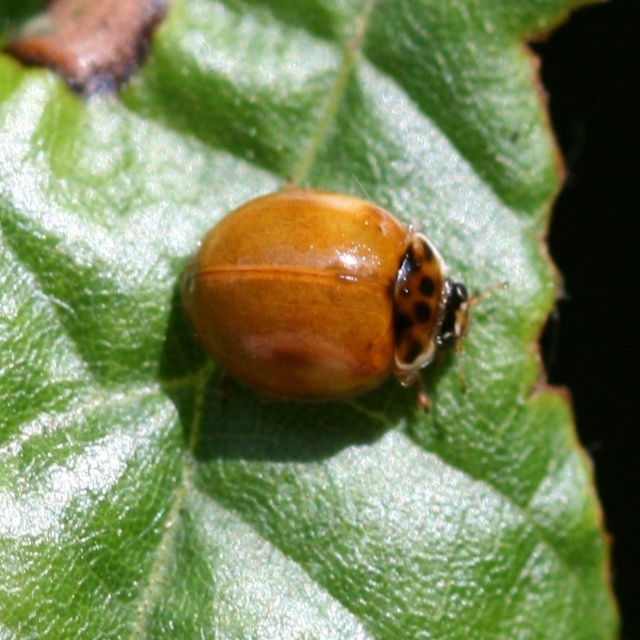Ladybug: (179, 174, 505, 410)
